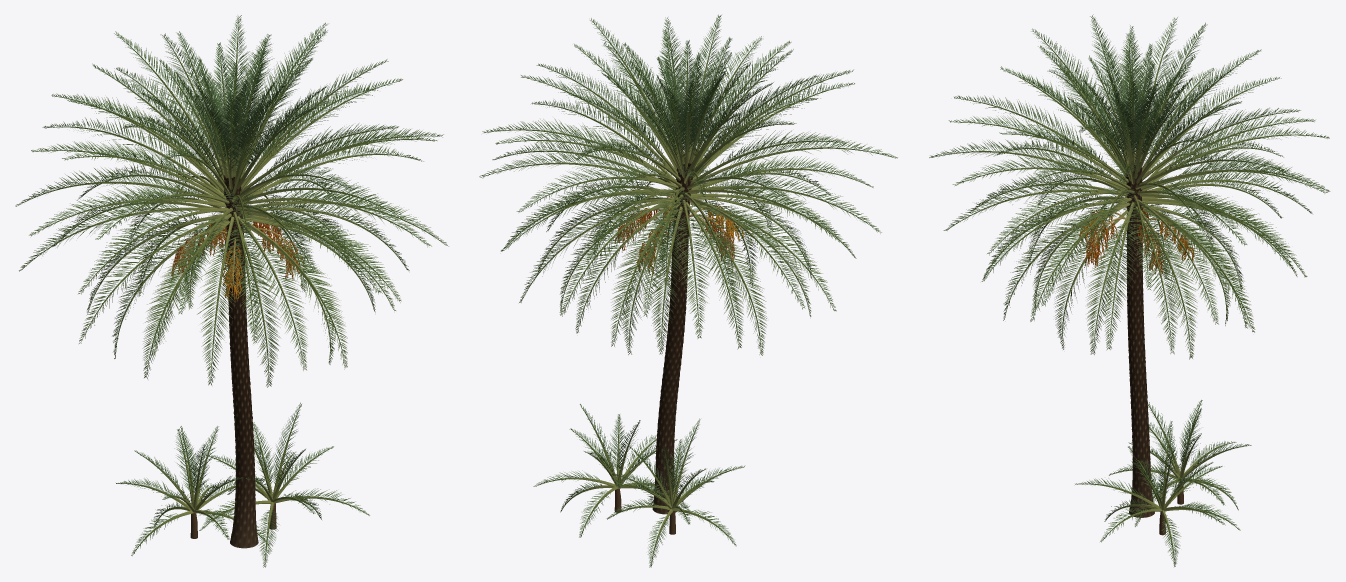
Rendered from meduse-v4.glb.
3 renders of one model, left to right at view 1: azimuth 30°, elevation 25°; view 2: azimuth 150°, elevation 25°; view 3: azimuth 270°, elevation 25°, orthographic. The views are drawn at different scales.
Parts seen in each view (by area): view 1: Stipe, Palme_75, Palme_70, Palme_78, Palme_83, Palme_67, Palme_72, Palme_62, Palme_59, Palme_57, Palme_64, Palme_54 (+63 smaller); view 2: Stipe, Palme_69, Palme_82, Palme_74, Palme_77, Palme_64, Palme_85, Palme_66, Palme_61, Palme_79, Palme_58, Palme_56 (+59 smaller); view 3: Stipe, Palme_68, Palme_76, Palme_63, Palme_71, Palme_84, Palme_81, Palme_60, Palme_65, Palme_52, Palme_86, Palme_57 (+61 smaller).
Part boxes in pixels (bbox=[...]): Stipe: bbox=[223, 175, 258, 548]; Palme_75: bbox=[197, 216, 238, 385]; Palme_70: bbox=[237, 216, 307, 370]; Palme_78: bbox=[241, 219, 347, 369]; Palme_83: bbox=[235, 222, 281, 387]; Palme_67: bbox=[151, 213, 231, 356]; Palme_72: bbox=[79, 215, 226, 343]; Palme_62: bbox=[226, 212, 266, 343]; Palme_59: bbox=[78, 206, 228, 294]; Palme_57: bbox=[238, 208, 381, 294]; Palme_64: bbox=[19, 199, 225, 271]; Palme_54: bbox=[178, 208, 232, 314]; Stipe: bbox=[652, 158, 693, 514]; Palme_69: bbox=[675, 200, 712, 338]; Palme_82: bbox=[647, 206, 683, 354]; Palme_74: bbox=[611, 202, 680, 346]; Palme_77: bbox=[686, 202, 743, 349]; Palme_64: bbox=[687, 196, 805, 309]; Palme_85: bbox=[687, 208, 766, 355]; Palme_66: bbox=[560, 196, 678, 316]; Palme_61: bbox=[638, 194, 683, 317]; Palme_79: bbox=[575, 202, 675, 333]; Palme_58: bbox=[502, 181, 676, 250]; Palme_56: bbox=[684, 193, 737, 302]; Stipe: bbox=[1125, 160, 1154, 517]; Palme_68: bbox=[1099, 202, 1137, 350]; Palme_76: bbox=[1135, 206, 1179, 354]; Palme_63: bbox=[1138, 199, 1218, 324]; Palme_71: bbox=[1140, 204, 1255, 332]; Palme_84: bbox=[1141, 210, 1197, 359]; Palme_81: bbox=[1086, 212, 1128, 354]; Palme_60: bbox=[1041, 197, 1131, 306]; Palme_65: bbox=[981, 198, 1127, 281]; Palme_52: bbox=[987, 186, 1128, 255]; Palme_86: bbox=[1055, 210, 1128, 349]; Palme_57: bbox=[943, 179, 1127, 230].
Bounding box in the file's own units: 10.13 × 12.55 × 10.08.
